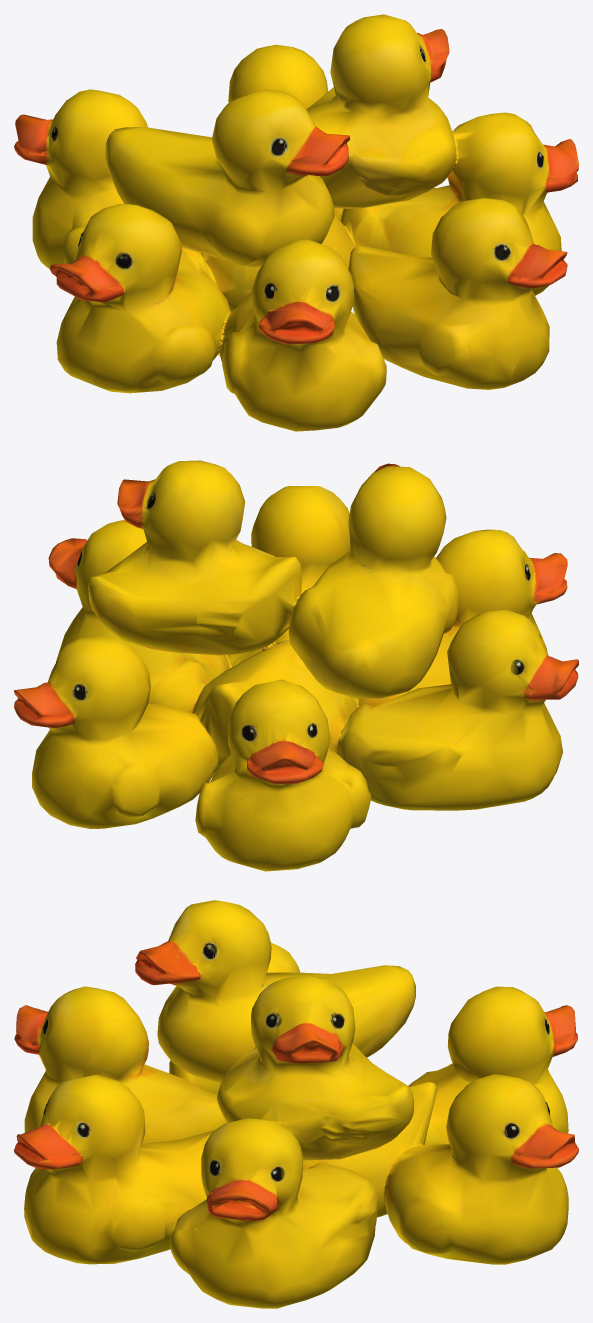
Rendered from buttons-water.glb.
3 views of the same model, one above another, from view 1: azimuth 30°, elevation 25°; view 2: azimuth 150°, elevation 25°; view 3: azimuth 270°, elevation 25° (orthographic).
Visible parts, largest first — view 1: Mesh_0; view 2: Mesh_0; view 3: Mesh_0.
Part boxes in pixels (x1,y1,x2,y2): Mesh_0: [14, 14, 578, 431]; Mesh_0: [14, 460, 578, 871]; Mesh_0: [14, 900, 578, 1308].
Size of the model in its own units: 1.89 by 0.9588 by 1.81.
1 material, 1 textured.
